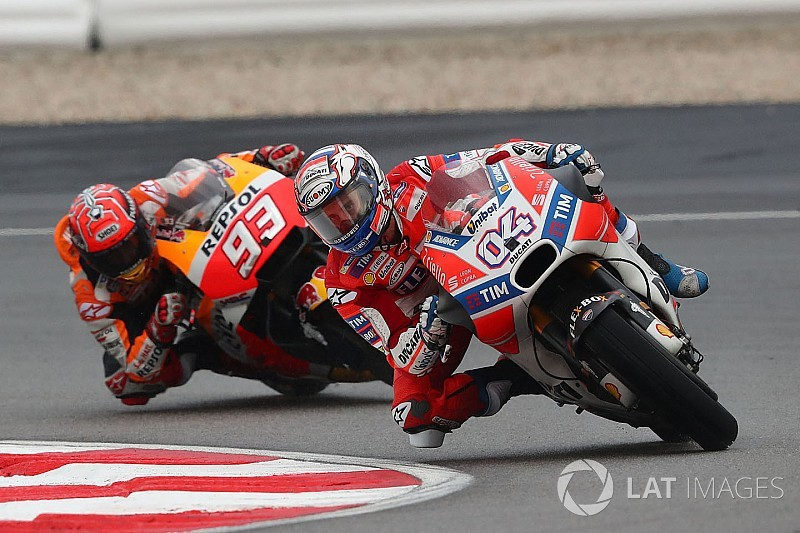helmet: (289, 148, 392, 255), (54, 184, 157, 288)
